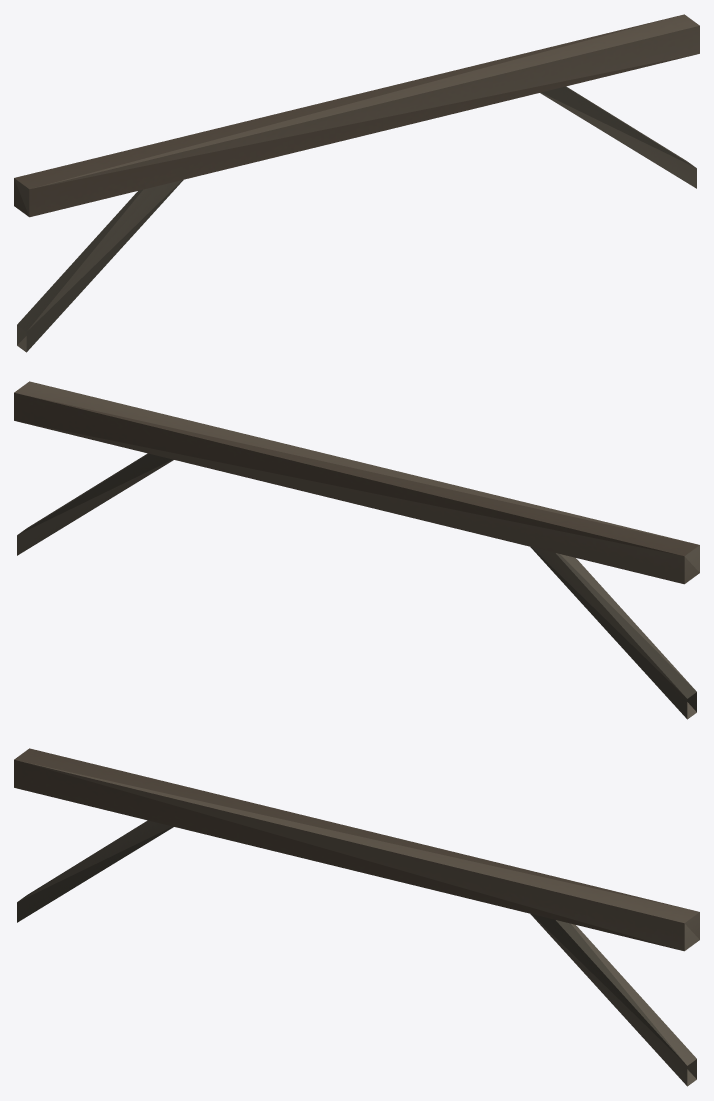
The model's file is Wood_3_LOD.fbx.
3 renders of one model, top to bottom at view 1: azimuth 30°, elevation 25°; view 2: azimuth 150°, elevation 25°; view 3: azimuth 330°, elevation 25°, orthographic.
Visible parts, largest first — view 1: polySurface1307; view 2: polySurface1307; view 3: polySurface1307.
Part boxes in pixels (box(x1,y1,x2,y2)): polySurface1307: box(14, 14, 699, 352); polySurface1307: box(14, 381, 699, 719); polySurface1307: box(14, 748, 699, 1086).
Size of the model in its own units: 10 by 2.36 by 0.4.
